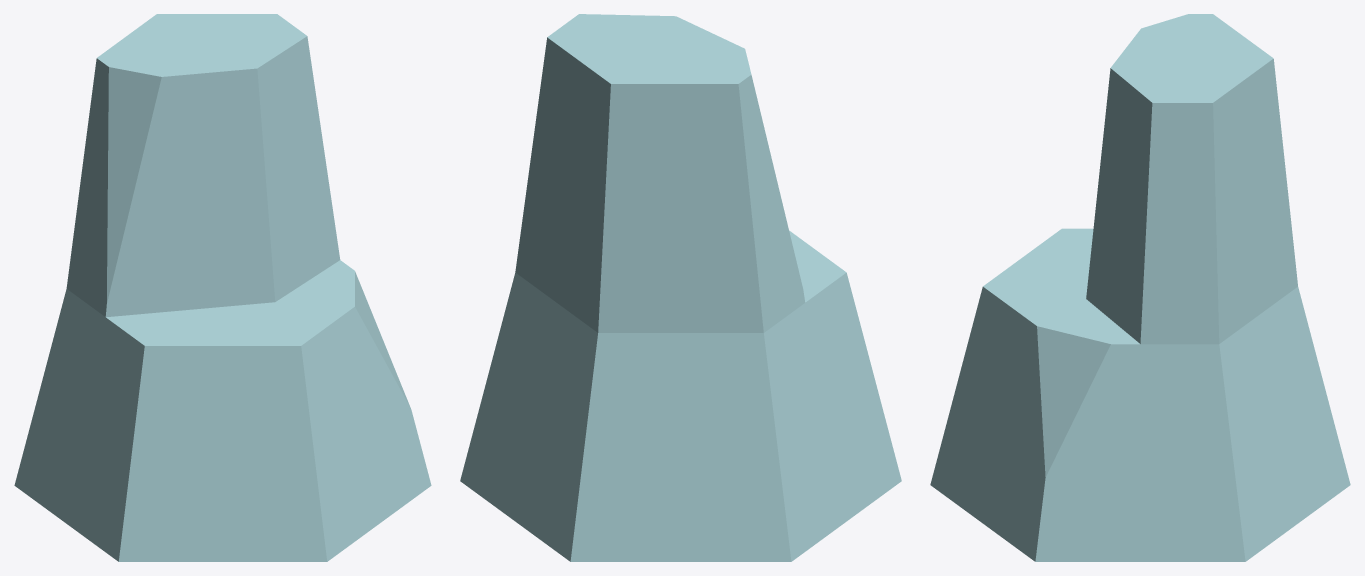
Rendered from stone_tallF.dae.
3 renders of one model, left to right at view 1: azimuth 30°, elevation 25°; view 2: azimuth 150°, elevation 25°; view 3: azimuth 270°, elevation 25°, orthographic. The views are drawn at different scales.
Parts seen in each view (by area): view 1: stone_tallF; view 2: stone_tallF; view 3: stone_tallF.
Part boxes in pixels (bbox=[...]): stone_tallF: bbox=[14, 14, 431, 561]; stone_tallF: bbox=[460, 14, 901, 561]; stone_tallF: bbox=[930, 14, 1350, 561].
Bounding box in the file's own units: 0.4437 × 0.5737 × 0.5123.
